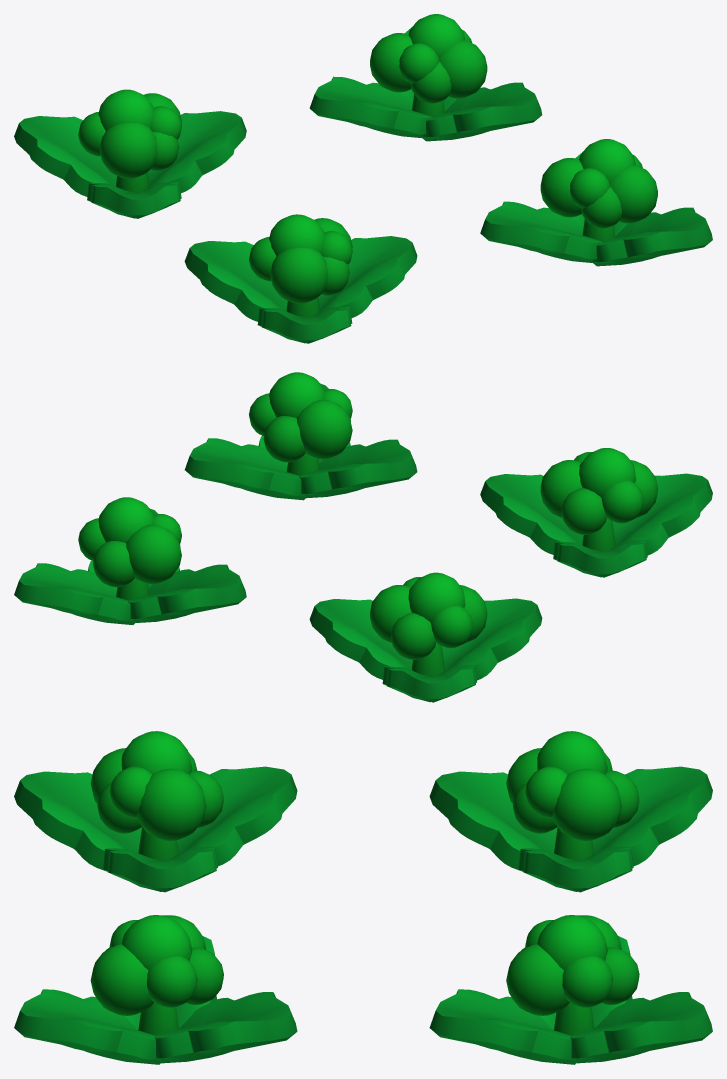
The model's file is Farm_Crop_Broccoli_Step_02.glb.
3 renders of one model, top to bottom at view 1: azimuth 30°, elevation 25°; view 2: azimuth 150°, elevation 25°; view 3: azimuth 270°, elevation 25°, orthographic. The views are drawn at different scales.
Visible parts, largest first — view 1: Farm_Crop_Broccoli_Step_02; view 2: Farm_Crop_Broccoli_Step_02; view 3: Farm_Crop_Broccoli_Step_02.
Boxes of the visible parts, x1=… form: Farm_Crop_Broccoli_Step_02: x1=14, y1=14, x2=712, y2=343; Farm_Crop_Broccoli_Step_02: x1=14, y1=372, x2=712, y2=702; Farm_Crop_Broccoli_Step_02: x1=14, y1=731, x2=712, y2=1064.
Bounding box in the file's own units: 1.5 × 0.3901 × 1.68.
1 material, 1 textured.
